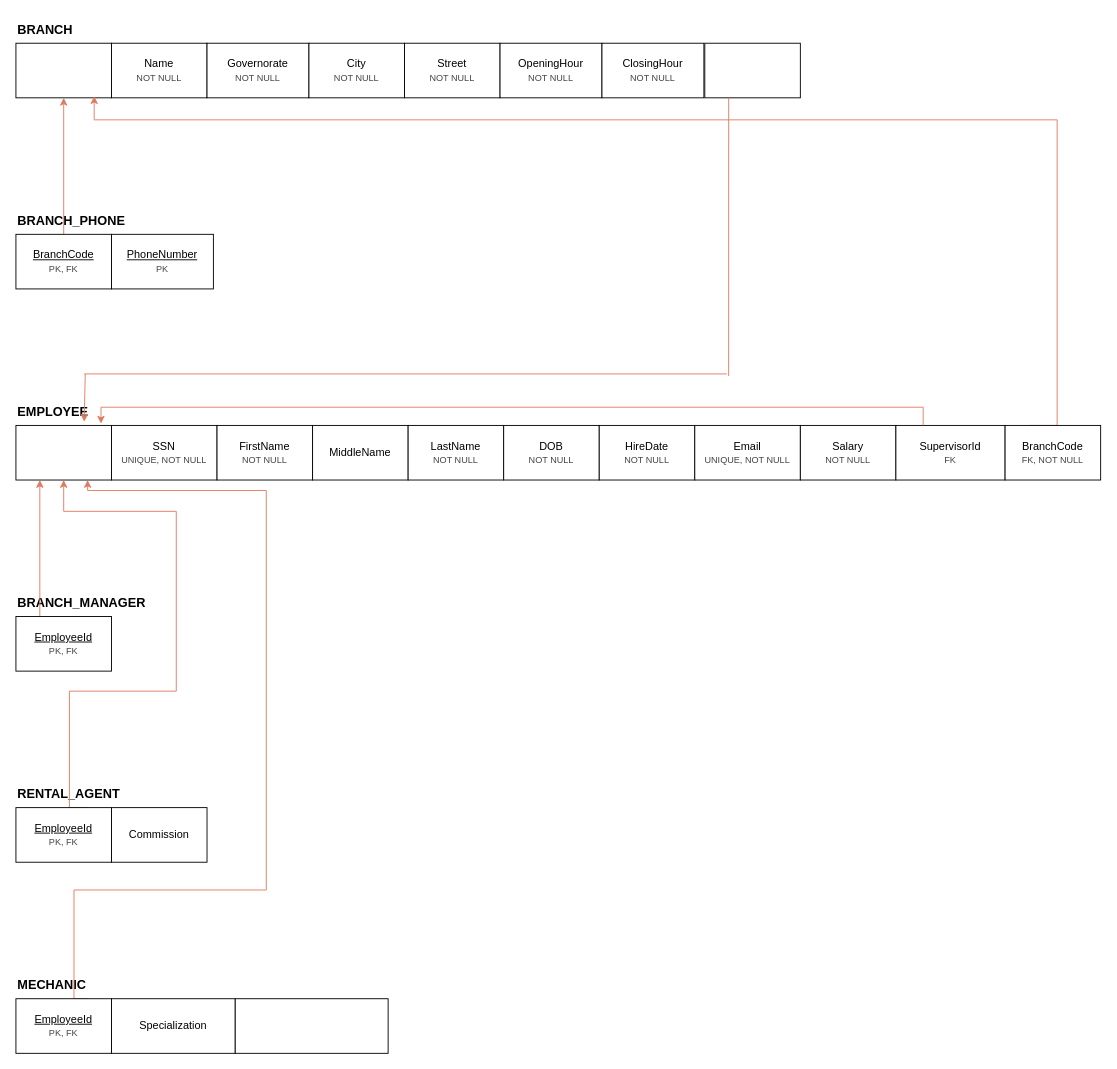
Image size: 1117x1069. Some labels were removed from this diagram. The centre of each missing label's shape, as x and y in pixels:
CertificationLevel: (x=311, y=1025)
Code PK: (x=63, y=70)
Id PK: (x=63, y=452)
ManagerId FK, UNIQUE, NOT NULL: (x=752, y=70)
